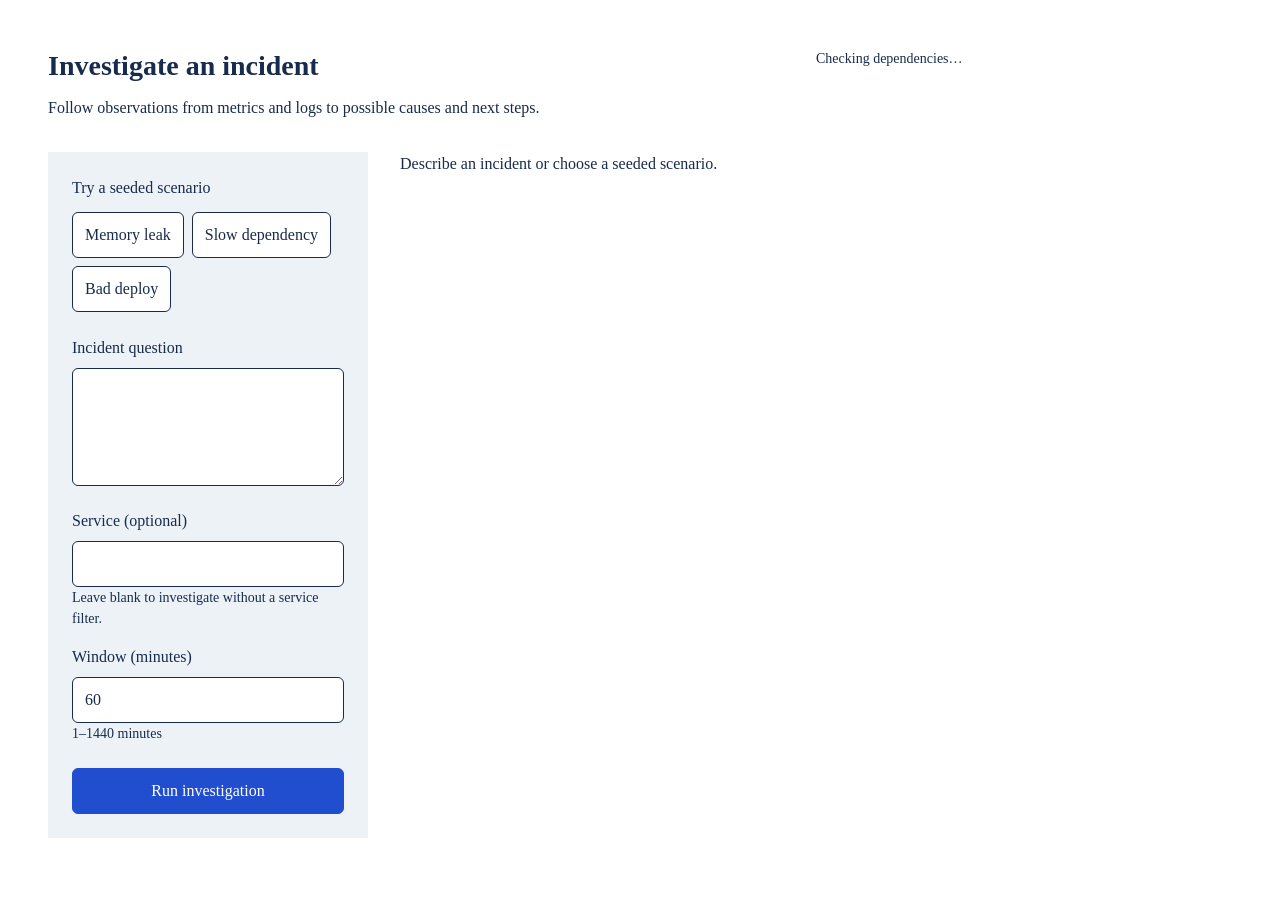
Test: unrenderable or reversed server intervals become safe invalid-response errors
The width and height of the screenshot is (1280, 900).
Click the button "Slow dependency".
click(261, 235)  # box [192, 212, 331, 258]
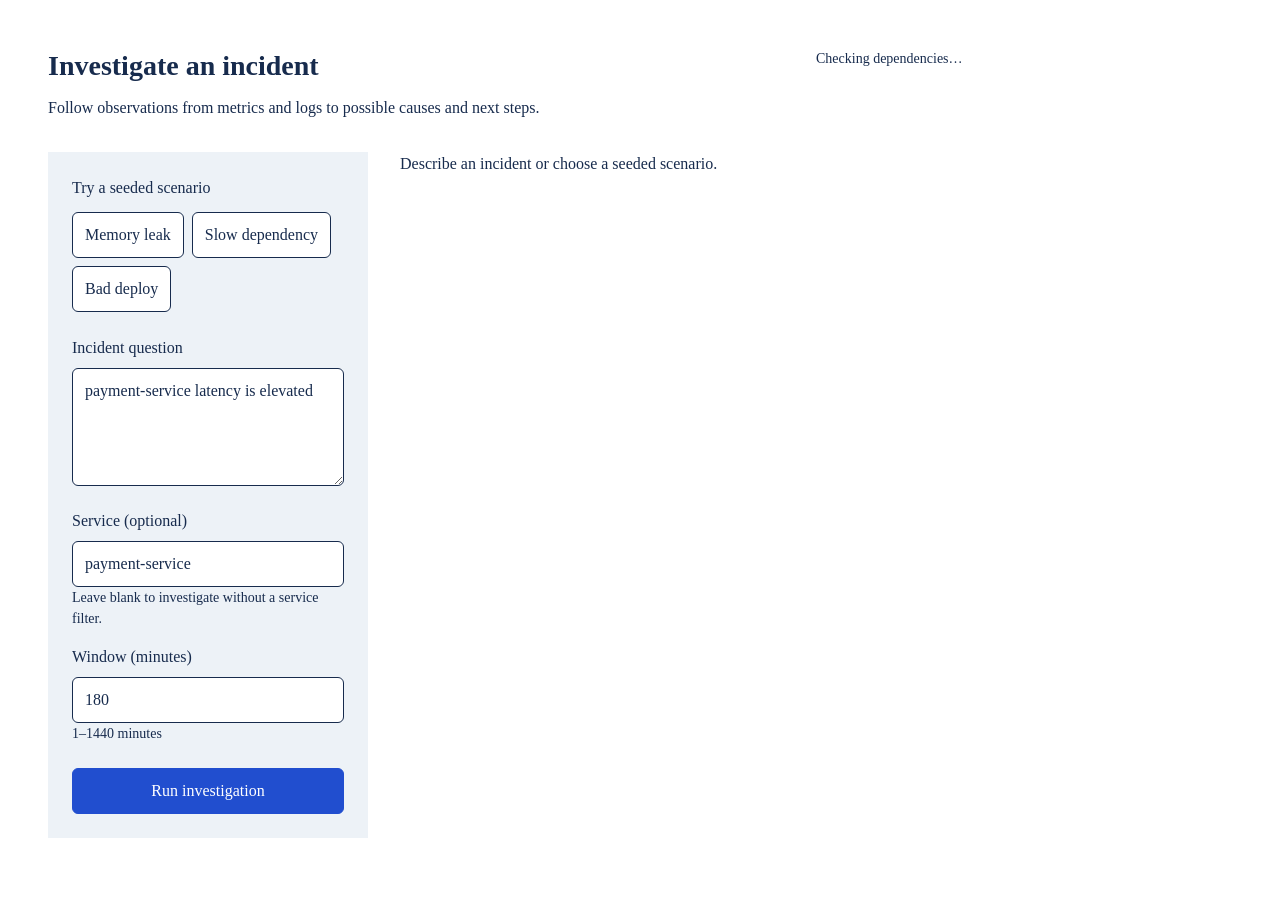
Click the button "Run investigation".
click(208, 791)  # box [72, 768, 344, 814]
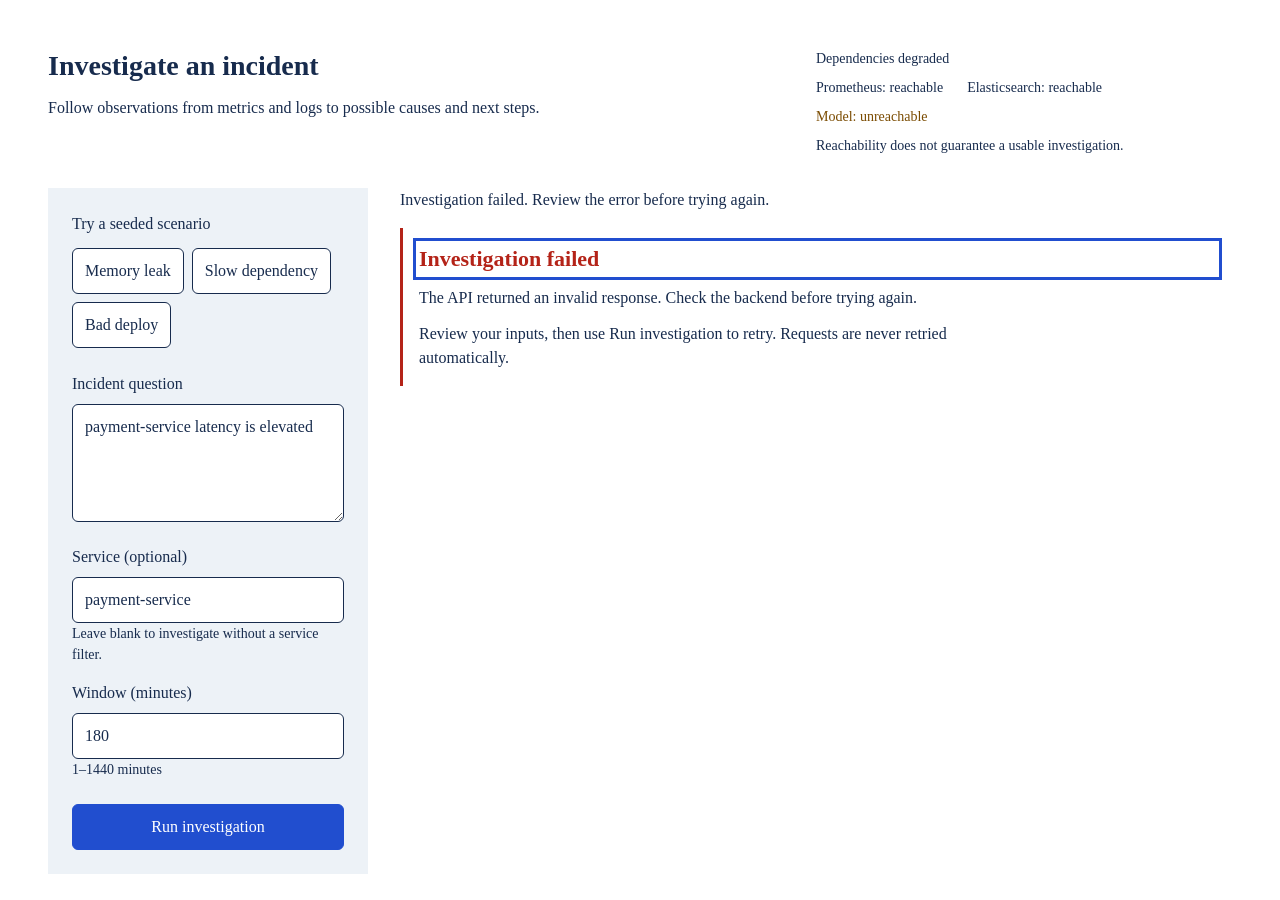
Check: the 3rd message shows "invalid response", box [419, 289, 917, 306]
